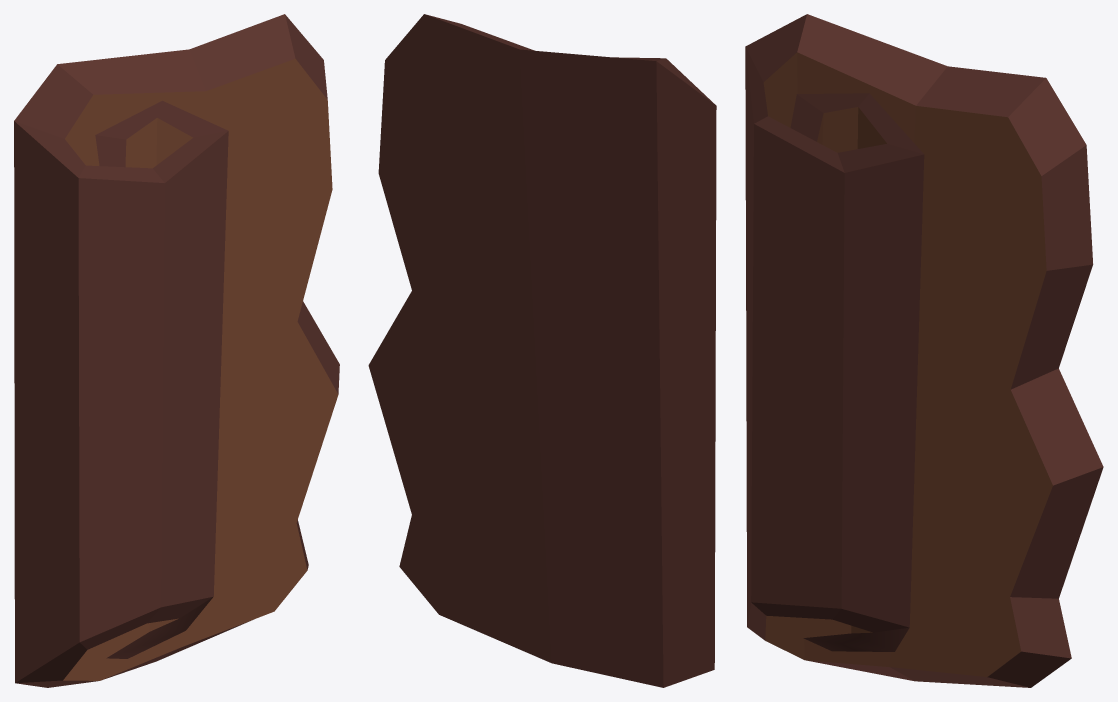
The model's file is icon_leather.fbx.
The picture shows the model from 3 angles, left to right: view 1: azimuth 30°, elevation 25°; view 2: azimuth 150°, elevation 25°; view 3: azimuth 330°, elevation 25°; orthographic projection. The views are drawn at different scales.
Parts seen in each view (by area): view 1: icon_leather; view 2: icon_leather; view 3: icon_leather.
Part boxes in pixels (left/top/right/bottom): icon_leather: left=14, top=14, right=339, bottom=687; icon_leather: left=368, top=14, right=716, bottom=687; icon_leather: left=745, top=14, right=1103, bottom=687.
Bounding box in the file's own units: 26.76 × 47.41 × 5.64.
